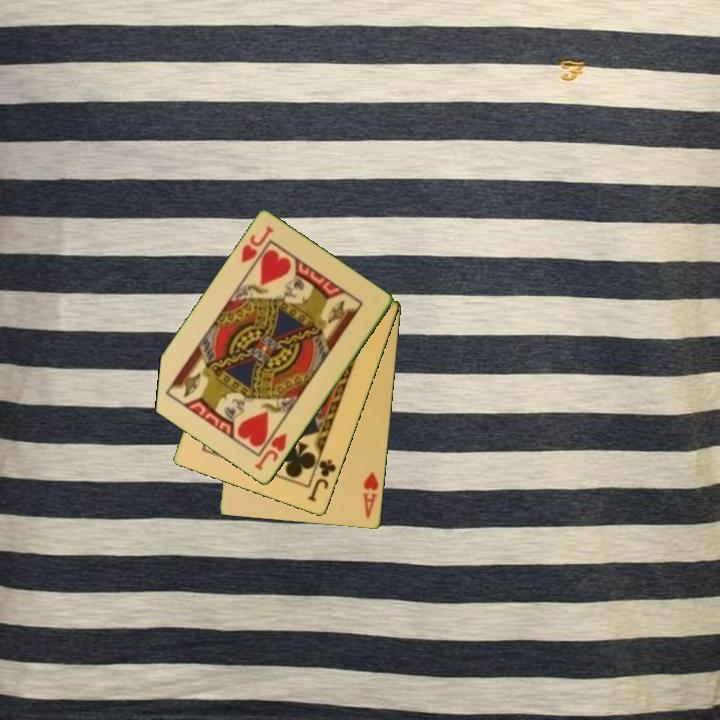Ah: (359, 469, 382, 521)
Jc: (304, 456, 339, 505)
Jh: (251, 430, 290, 474), (238, 223, 277, 266)
